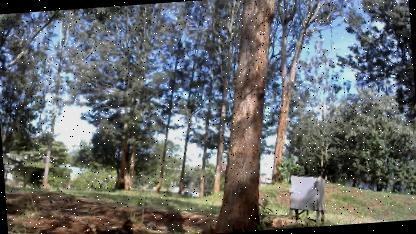tree: (193, 0, 298, 233)
